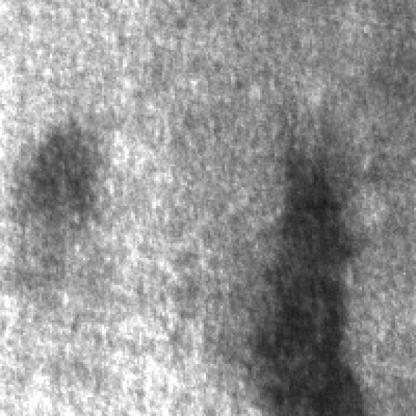patches: (256, 175, 358, 416), (16, 127, 100, 235)
